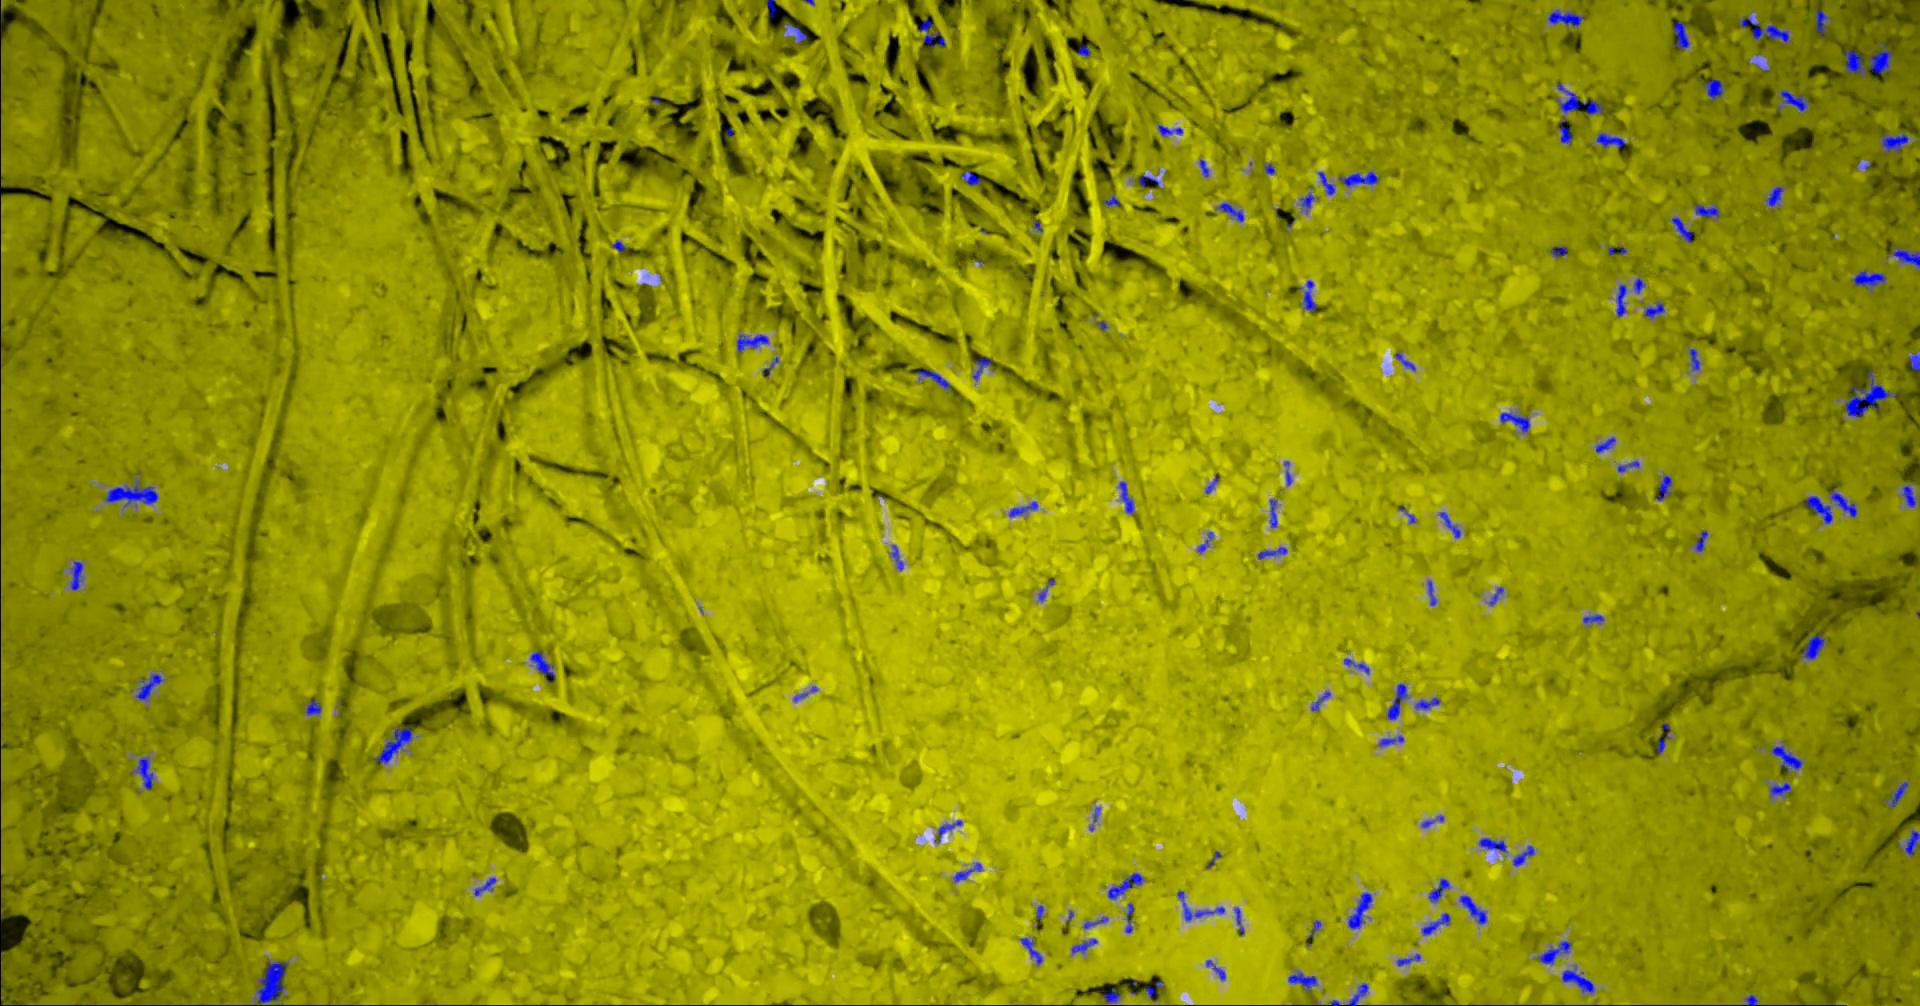ant: (1556, 83, 1603, 144), (1844, 370, 1895, 417), (104, 478, 157, 507), (1738, 15, 1790, 43), (1176, 890, 1224, 920), (373, 727, 411, 763), (257, 960, 287, 1005), (1107, 873, 1143, 899), (1347, 892, 1371, 929), (1561, 965, 1594, 992), (917, 18, 945, 48), (1829, 486, 1857, 517), (1769, 746, 1802, 771), (1537, 940, 1571, 964), (1803, 495, 1832, 523), (1458, 895, 1486, 923), (135, 673, 163, 700), (1868, 42, 1892, 72), (1387, 683, 1407, 719), (530, 650, 555, 678), (933, 819, 963, 842), (1421, 912, 1450, 935), (916, 370, 950, 389), (1288, 970, 1317, 992), (1851, 271, 1884, 290), (1338, 171, 1379, 187), (1498, 412, 1529, 432), (1843, 50, 1865, 76), (1801, 633, 1823, 659), (1020, 937, 1043, 964), (1547, 9, 1583, 25), (1779, 89, 1807, 111), (1890, 246, 1919, 267), (135, 756, 152, 789), (1439, 511, 1460, 537), (737, 334, 768, 352), (1879, 133, 1909, 152), (952, 862, 982, 882), (1886, 781, 1907, 807), (1671, 216, 1691, 243), (1299, 279, 1316, 311), (1217, 202, 1243, 221), (1595, 132, 1625, 149), (1346, 982, 1368, 1005), (1429, 878, 1449, 902), (1117, 481, 1133, 513), (1672, 20, 1689, 50), (1008, 500, 1037, 517), (1512, 845, 1534, 866), (1815, 8, 1830, 38), (1703, 77, 1723, 100), (1205, 959, 1225, 981), (971, 357, 990, 380), (472, 876, 495, 895), (1478, 837, 1506, 852), (1655, 475, 1671, 500), (1343, 658, 1369, 674), (1317, 171, 1335, 194), (1903, 829, 1919, 856), (1656, 723, 1669, 754), (69, 561, 83, 589), (1305, 920, 1321, 945), (1070, 937, 1096, 953), (1037, 578, 1054, 601), (1257, 546, 1286, 559), (1310, 691, 1330, 710), (1394, 352, 1415, 370), (1144, 981, 1164, 998), (1694, 203, 1719, 217), (1396, 953, 1420, 967), (1765, 185, 1782, 206), (1643, 301, 1663, 318), (1595, 436, 1615, 452), (1197, 531, 1213, 553), (1615, 285, 1625, 316), (1082, 916, 1107, 929), (789, 24, 806, 42), (1102, 987, 1120, 1005), (762, 356, 778, 375), (960, 170, 980, 185), (891, 544, 903, 570), (1769, 782, 1790, 796), (1157, 124, 1182, 136), (1617, 460, 1639, 473), (1902, 484, 1915, 507), (1488, 586, 1503, 605), (1299, 193, 1313, 213), (1233, 907, 1243, 935), (1415, 697, 1439, 709), (1694, 530, 1707, 551), (1421, 814, 1443, 827), (1269, 498, 1277, 527), (1124, 903, 1133, 932), (1688, 348, 1699, 370), (1379, 735, 1403, 746), (1138, 174, 1158, 185), (305, 699, 320, 714), (1427, 580, 1436, 605), (1633, 276, 1644, 293), (1549, 245, 1566, 257), (1197, 159, 1208, 177), (1909, 352, 1919, 370), (1582, 614, 1603, 622), (1103, 196, 1120, 206), (766, 0, 775, 18), (1077, 44, 1090, 56), (1743, 995, 1757, 1005), (1608, 246, 1625, 254)
